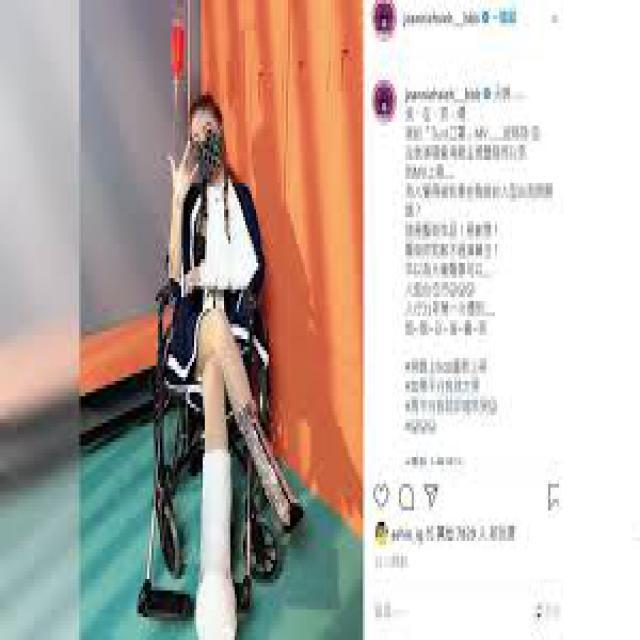wheelchairs: (137, 206, 270, 636)
